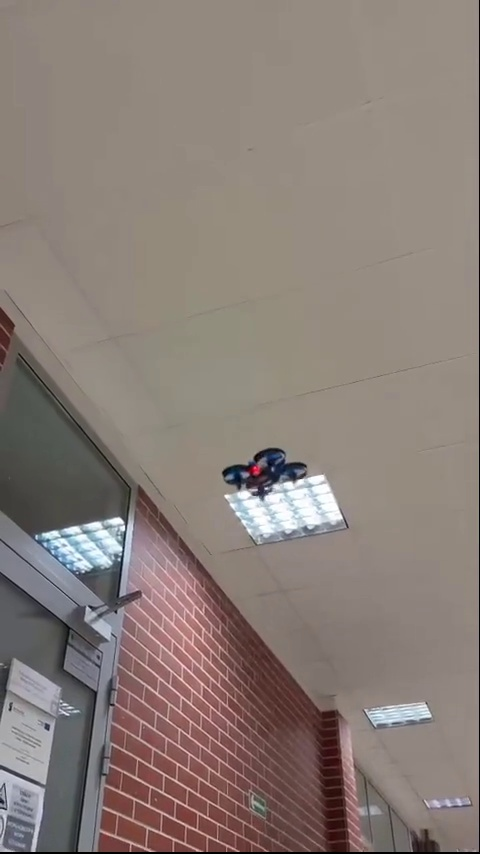drone: (222, 445, 298, 497)
